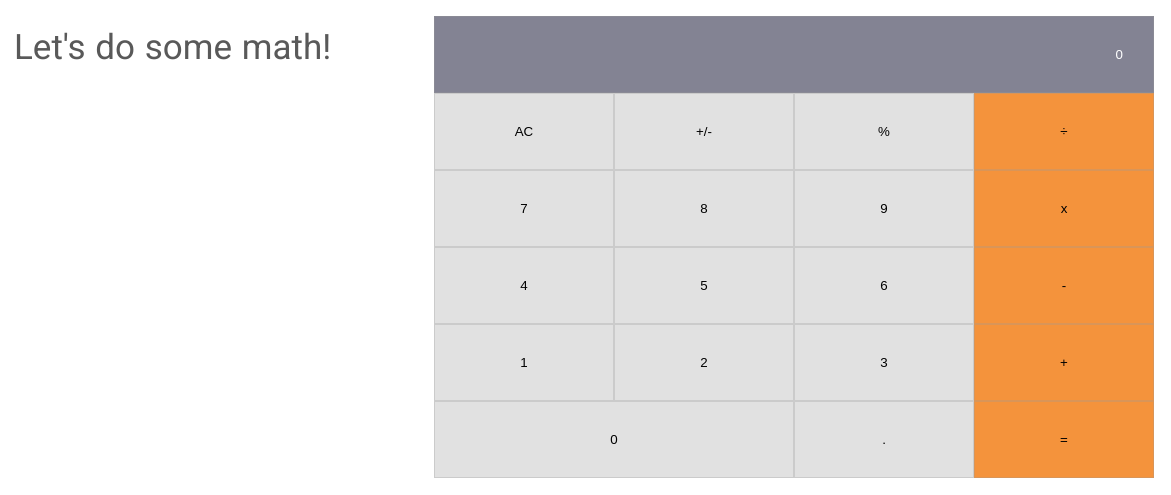
Scenario: Check when click on some number, texbox should display this number
Click the button "1": [524, 362] box [434,324,614,401]
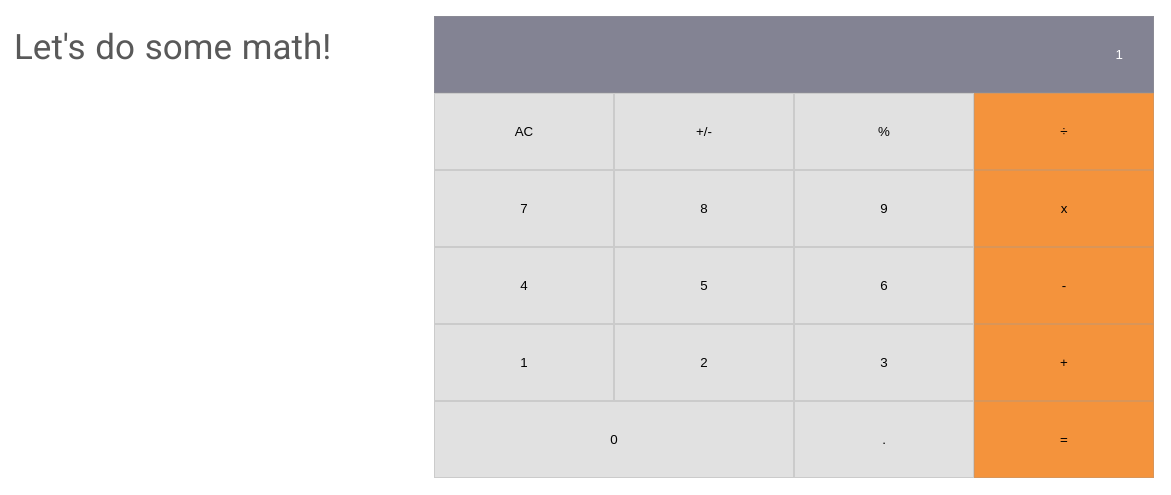
Expected: the field holds "1", [434,16,1154,93]
